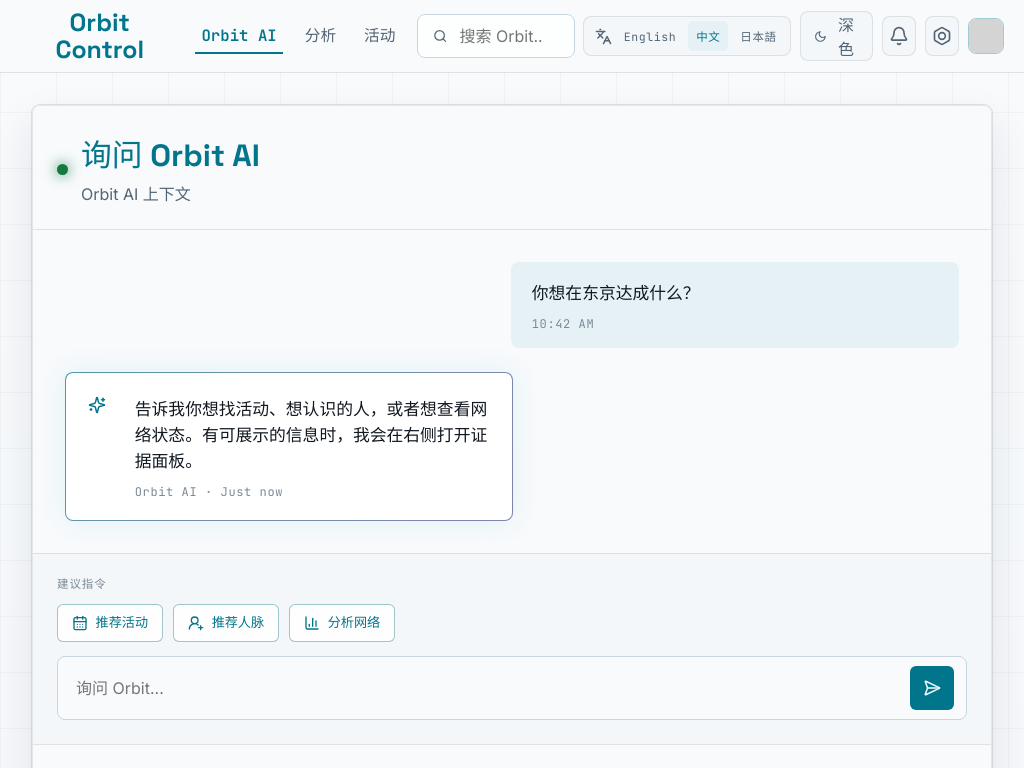
Test case: Orbit UI framework › switches to the dark theme without changing the Chinese product shell
The width and height of the screenshot is (1024, 768).
Click the button "深色".
click(836, 36)  # box top-left (800, 11), bottom-right (873, 61)
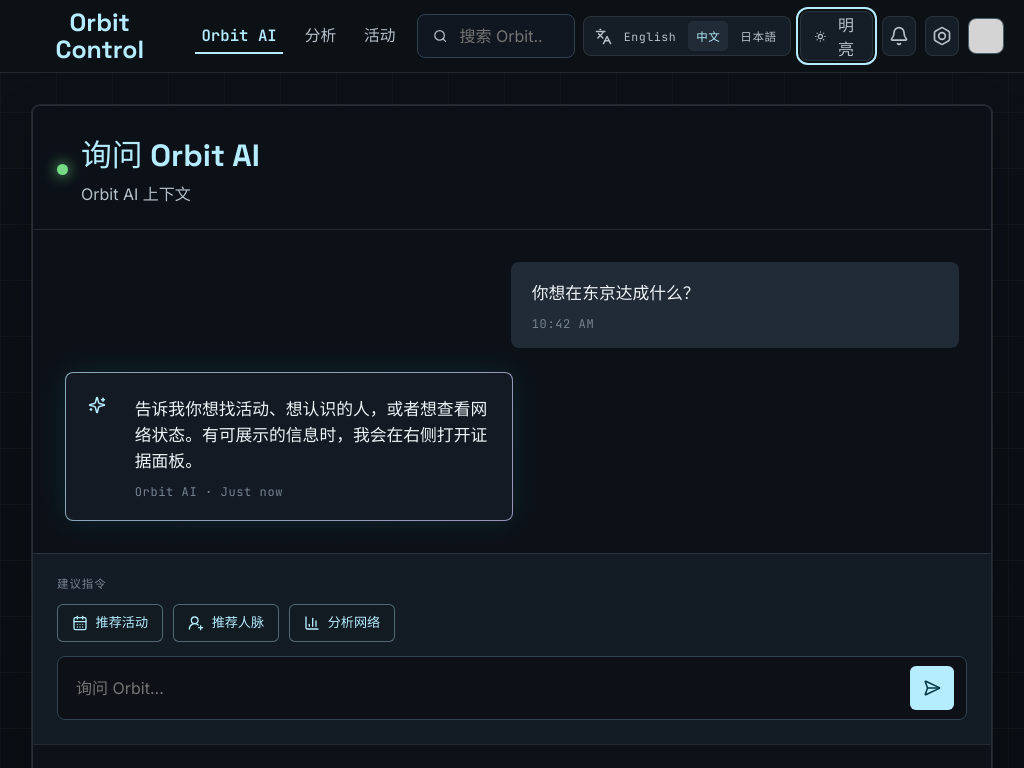
Check: the heading "询问 Orbit AI" is shown, box top-left (81, 130), bottom-right (260, 175)
Check: the button "明亮" is shown, box top-left (800, 11), bottom-right (873, 61)
